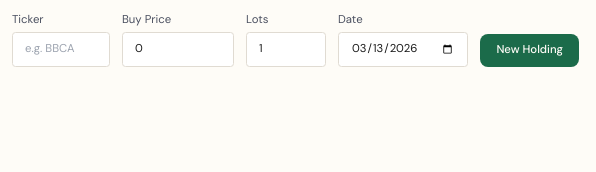
Test: BuyHoldingForm › shows Add Lots button when ticker matches existing holding
Type "bbca" into the field labelled "Ticker". click: (61, 49)
box: [12,32,110,67]
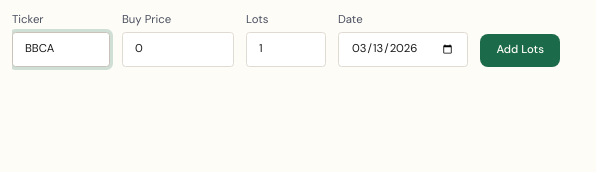
Check: the button "Add Lots" is shown, box [480,34,560,67]
